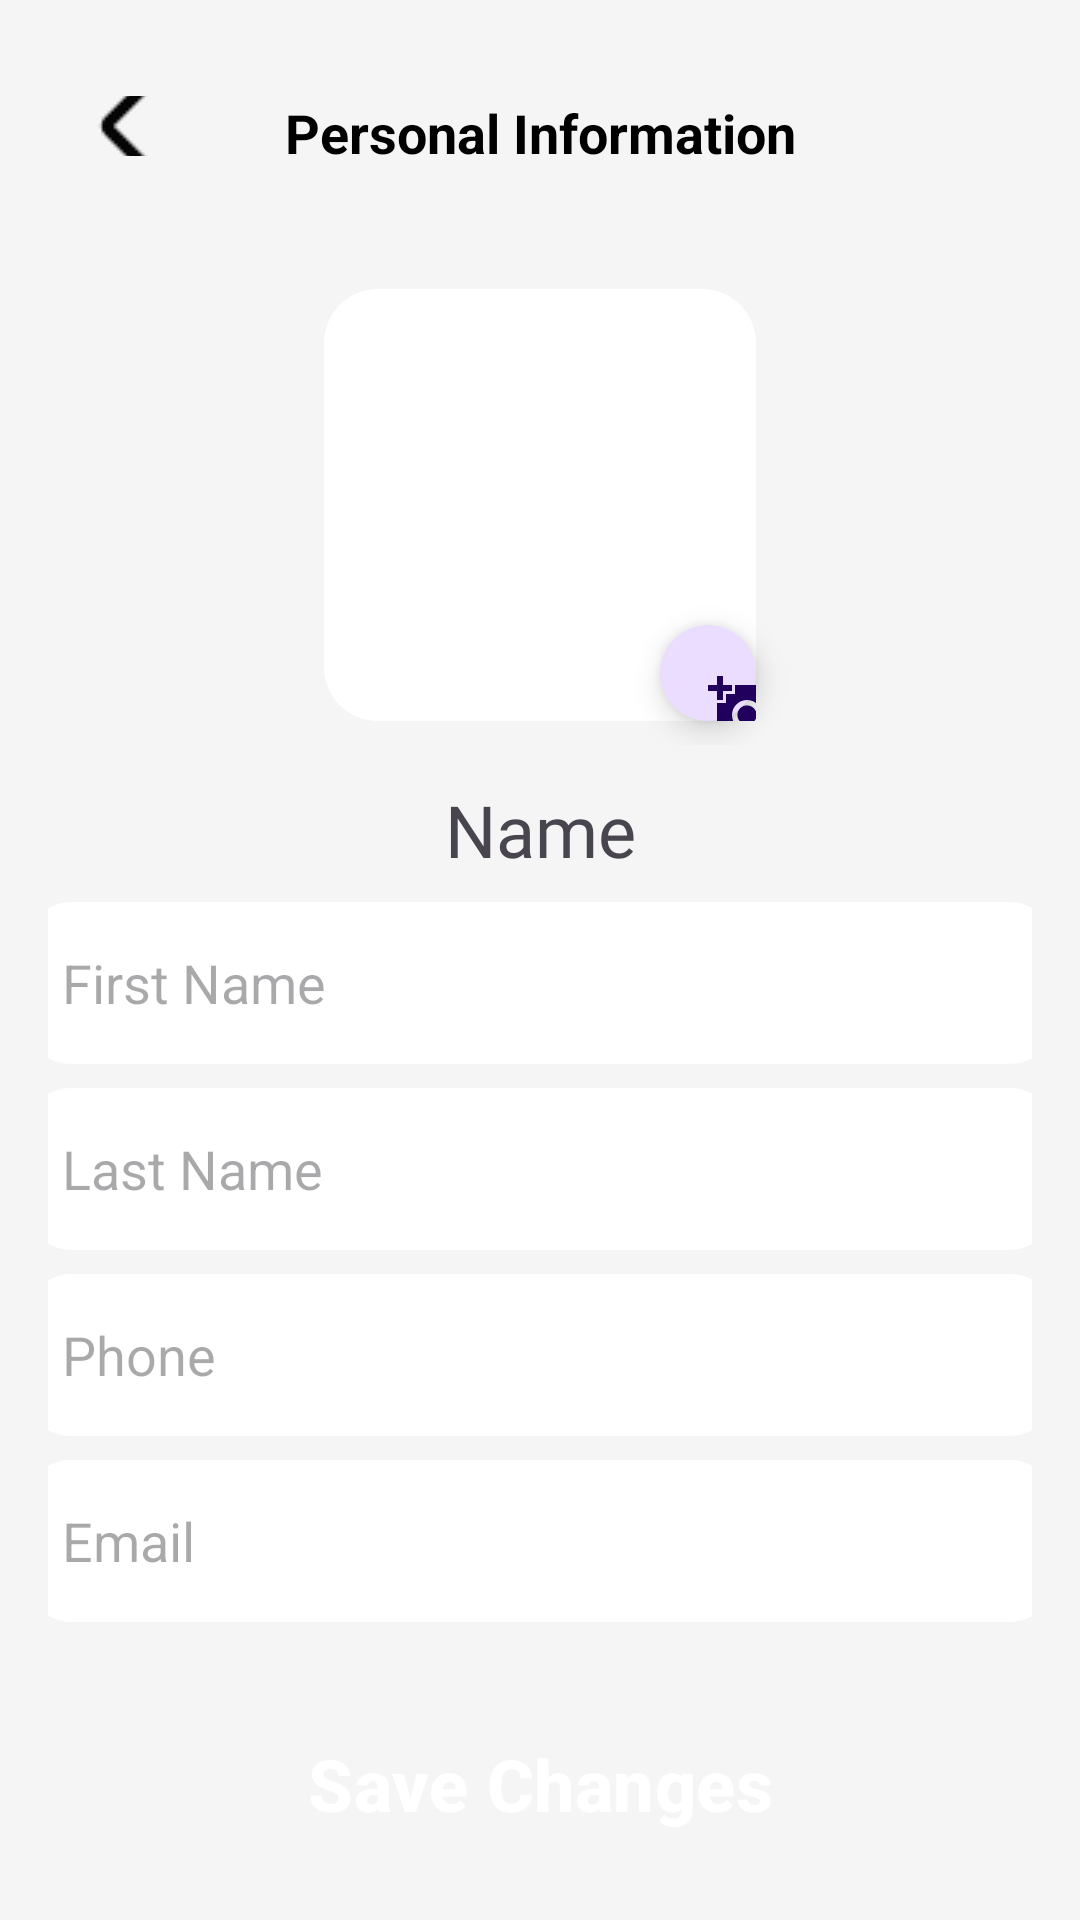

Icon bounding boxes for this 1080 × 1920 phone screenshot, format (x1, y1, x2, y2):
add photo: (660, 625, 756, 721)
Back Button: (100, 96, 146, 156)
